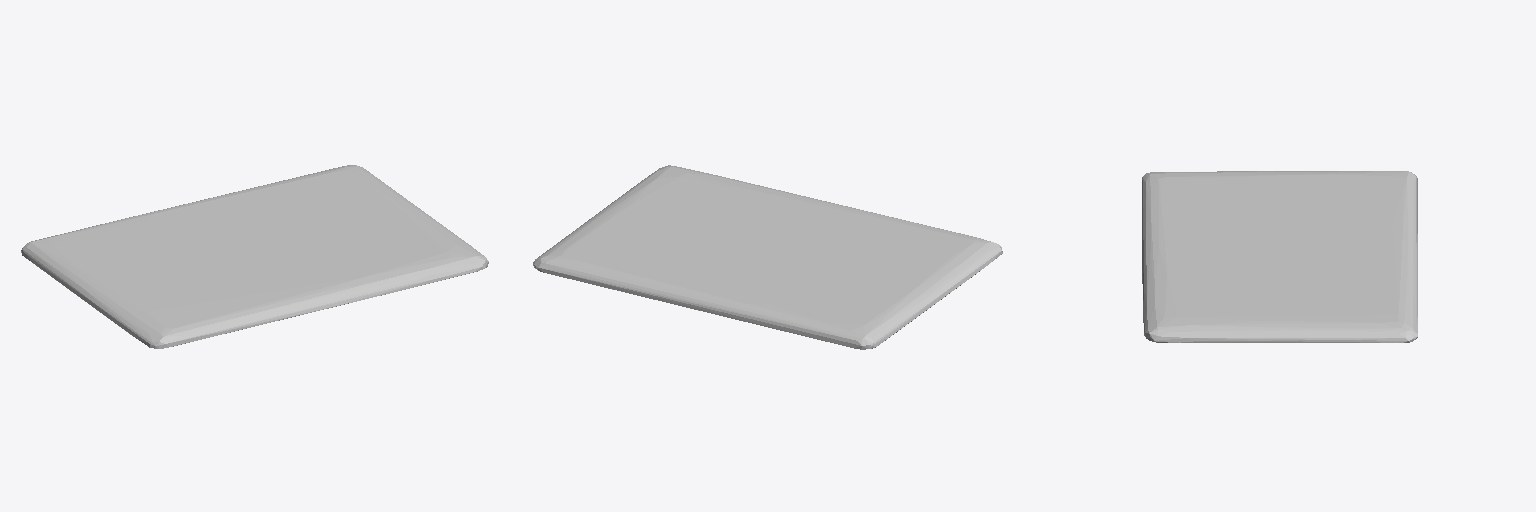
File: laptop_collision.obj
3 renders of one model, left to right at view 1: azimuth 30°, elevation 25°; view 2: azimuth 150°, elevation 25°; view 3: azimuth 270°, elevation 25°, orthographic.
Size of the model in its own units: 0.0987 by 0.0041 by 0.0689.